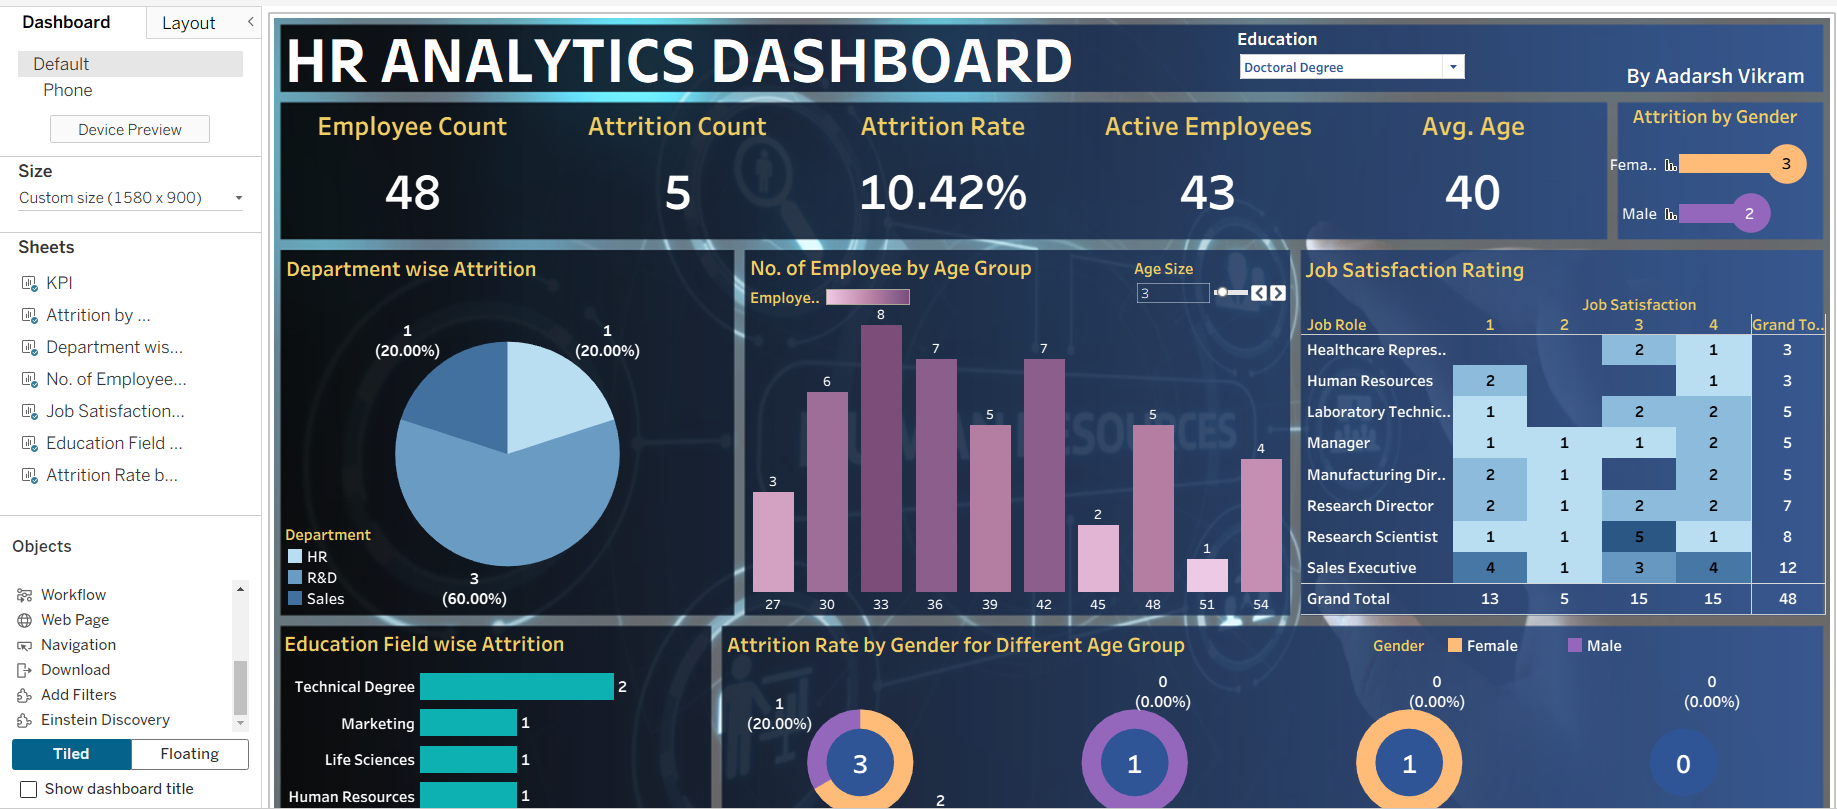

Layout of this report page (visuals, bound fields, positions):
{"tool":"tableau","page":{"name":"HR Dashboard ","canvas":[1580,900],"ordinal":0},"visuals":[{"type":"image","param":"Image/HR background.pptx.png","box":[8,8,1564,884]},{"type":"text","box":[19,19,1028,65]},{"type":"filter","title":"Department wise Attrition","param":"[federated.0f0h03p1it3gvo176rhln1y1tx4v].[none:Education:nk]","box":[975,21,231,62]},{"type":"text","box":[1361,55,197,28]},{"type":"worksheet","title":"Attrition by Gender","mark":"Automatic","rows":["Gender"],"cols":["Calculation_231935388807032832","Calculation_231935388807032832"],"box":[1345,93,216,139]},{"type":"worksheet","title":"KPI","mark":"Automatic","box":[18,96,1326,136]},{"type":"worksheet","title":"No. of Employee by Age Group","mark":"Automatic","rows":["Employee Count"],"cols":["Age (bin)"],"box":[484,243,543,365]},{"type":"worksheet","title":"Department wise Attrition","mark":"Pie","box":[20,244,451,365]},{"type":"worksheet","title":"Job Satisfaction Rating","mark":"Square","rows":["Job Role"],"cols":["Job Satisfaction"],"box":[1039,245,525,364]},{"type":"parameter","param":"[Parameters].[Age Parameter]","box":[872,252,155,49]},{"type":"legend","title":"No. of Employee by Age Group","param":"[federated.0f0h03p1it3gvo176rhln1y1tx4v].[sum:Employee Count:qk]","box":[488,279,164,24]},{"type":"legend","title":"Department wise Attrition","param":"[federated.0f0h03p1it3gvo176rhln1y1tx4v].[none:Department:nk]","box":[23,518,140,85]},{"type":"worksheet","title":"Education Field wise Attrition","mark":"Automatic","rows":["Education Field"],"cols":["Calculation_231935388807032832"],"box":[18,619,431,262]},{"type":"worksheet","title":"Attrition Rate by Gender for Different Age Group","mark":"Pie","rows":["Calculation_1302666200262176769","Calculation_1302666200262176769"],"cols":["CF_age band"],"box":[461,620,1098,255]},{"type":"legend","title":"Attrition Rate by Gender for Different Age Group","param":"[federated.0f0h03p1it3gvo176rhln1y1tx4v].[none:Gender:nk]","box":[1111,629,381,31]}]}

Visuals, with their boxes on the page's 1580x900 design canvas (x1, y1, x2, y2). These are canvas units, not pixel positions in the 1837x809 screenshot, which may show the page scaled, cropped or inside an application window:
image: <bbox>8, 8, 1572, 892</bbox>
text: <bbox>19, 19, 1047, 84</bbox>
"Department wise Attrition" filter: <bbox>975, 21, 1206, 83</bbox>
text: <bbox>1361, 55, 1558, 83</bbox>
"Attrition by Gender" worksheet: <bbox>1345, 93, 1561, 232</bbox>
"KPI" worksheet: <bbox>18, 96, 1344, 232</bbox>
"No. of Employee by Age Group" worksheet: <bbox>484, 243, 1027, 608</bbox>
"Department wise Attrition" worksheet (Pie marks): <bbox>20, 244, 471, 609</bbox>
"Job Satisfaction Rating" worksheet (Square marks): <bbox>1039, 245, 1564, 609</bbox>
parameter: <bbox>872, 252, 1027, 301</bbox>
"No. of Employee by Age Group" legend: <bbox>488, 279, 652, 303</bbox>
"Department wise Attrition" legend: <bbox>23, 518, 163, 603</bbox>
"Education Field wise Attrition" worksheet: <bbox>18, 619, 449, 881</bbox>
"Attrition Rate by Gender for Different Age Group" worksheet (Pie marks): <bbox>461, 620, 1559, 875</bbox>
"Attrition Rate by Gender for Different Age Group" legend: <bbox>1111, 629, 1492, 660</bbox>
